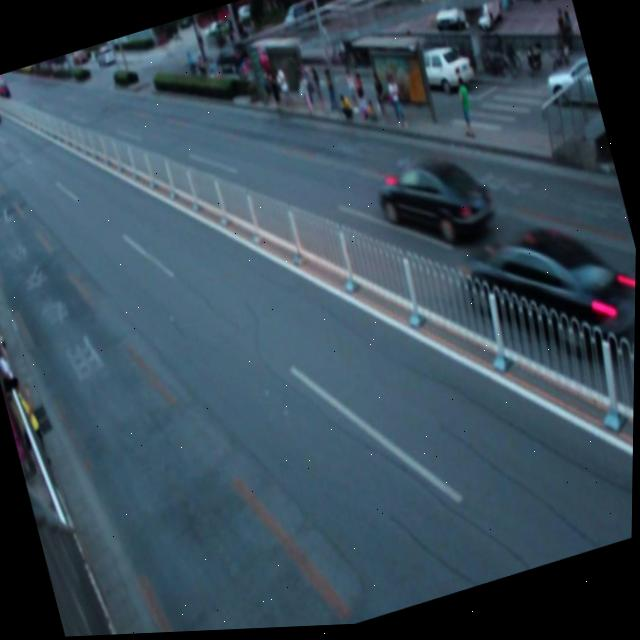car: (452, 210, 637, 383), (370, 142, 498, 264)
